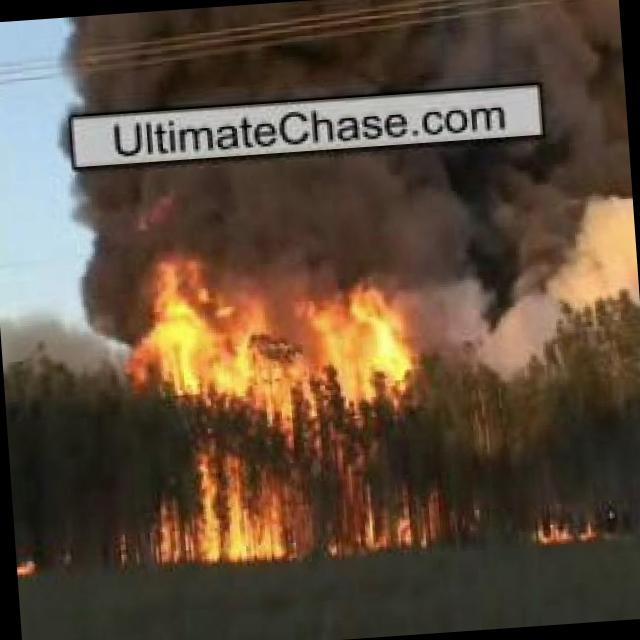Fire: (139, 237, 442, 568), (530, 516, 600, 546), (17, 554, 40, 574)
Smoke: (0, 130, 640, 383), (67, 0, 623, 109)
